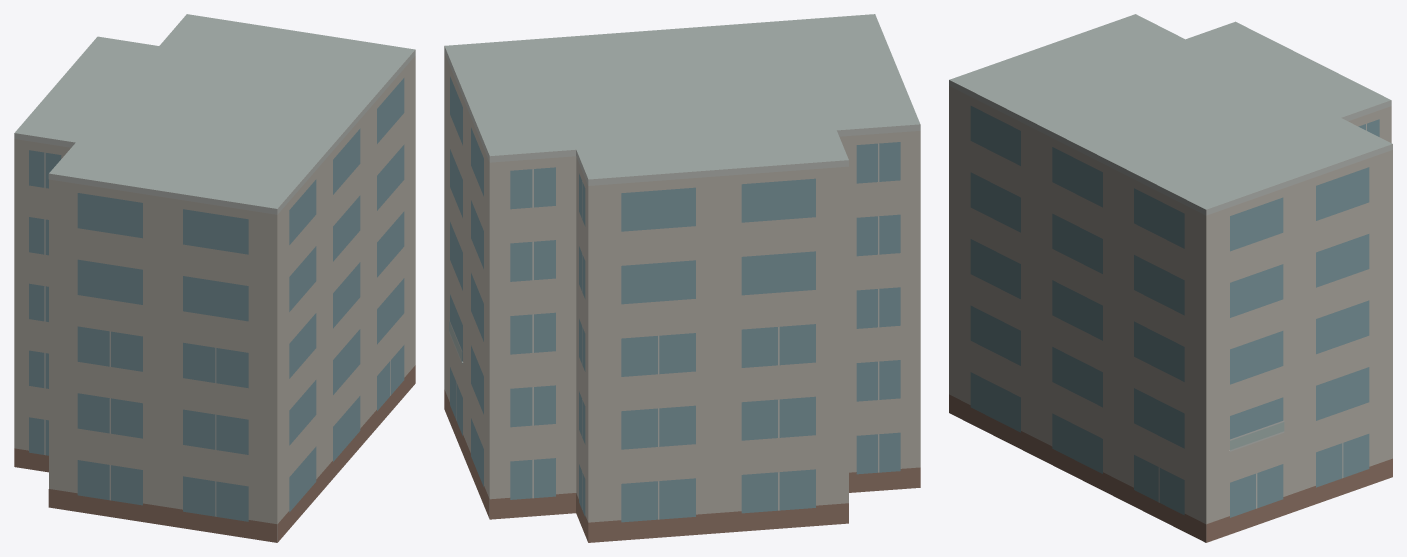
Rendered from survey-upis-32976986.glb.
The picture shows the model from 3 angles, left to right: view 1: azimuth 30°, elevation 25°; view 2: azimuth 150°, elevation 25°; view 3: azimuth 270°, elevation 25°; orthographic projection. The views are drawn at different scales.
Parts seen in each view (by area): view 1: survey-upis-32976986.tmp; view 2: survey-upis-32976986.tmp; view 3: survey-upis-32976986.tmp.
Boxes of the visible parts, box(x1,y1,x2,y2) form: survey-upis-32976986.tmp: box(14, 14, 415, 542); survey-upis-32976986.tmp: box(444, 14, 920, 542); survey-upis-32976986.tmp: box(949, 14, 1392, 542).
Size of the model in its own units: 17.34 by 13.75 by 16.61.
